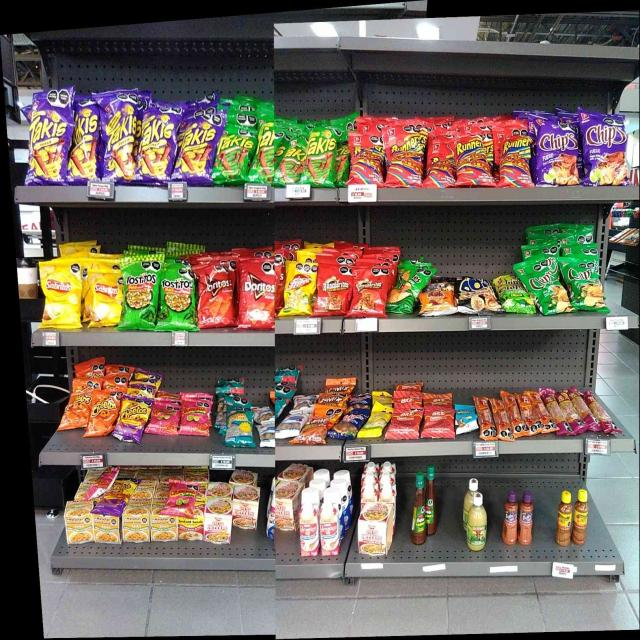bitzAlmendras: (456, 404, 475, 432)
bitzEnchilado90: (478, 390, 542, 438), (425, 406, 454, 440), (394, 406, 420, 439)
bitzHabanero: (555, 390, 613, 434)
bokadosCacahuates: (341, 410, 362, 438)
botaneraChilito: (574, 490, 588, 546), (558, 492, 570, 546)
cheetosFlaminHot: (121, 395, 146, 443), (109, 479, 127, 512)
cheetosOriginal: (92, 392, 115, 432), (67, 392, 89, 429)
chipsFuego: (582, 111, 626, 186), (536, 120, 578, 186)
chipsJalapeno: (567, 259, 601, 311), (534, 262, 561, 315)
chipsPapatinas: (501, 276, 524, 314)
churrumais: (182, 400, 208, 435), (154, 398, 178, 434), (169, 479, 193, 513)
delPrimoSalsa: (468, 494, 485, 551)
doritosNacho: (240, 260, 276, 330), (199, 265, 235, 327)
fritosLimon: (286, 262, 313, 316)
hotNutsOriginal: (426, 277, 454, 316)
leoCacahuates: (277, 413, 300, 437), (257, 423, 275, 447)
leoMix: (306, 405, 334, 445)
maruchanPollo: (67, 501, 92, 543), (129, 496, 150, 542), (94, 516, 119, 545), (151, 516, 176, 542)
maruchanRes: (179, 518, 203, 542)
nestleCarnation: (300, 506, 318, 556), (321, 506, 338, 555)
nissinCamaron: (206, 498, 231, 543)
nissinRes: (359, 504, 387, 556), (235, 484, 257, 530), (277, 482, 297, 529)
popKarameladas: (457, 276, 492, 314)
rancheritos: (318, 264, 350, 317), (354, 266, 385, 318)
rufflesQueso: (389, 280, 414, 316)
runners: (385, 128, 423, 188), (348, 132, 383, 184), (456, 138, 492, 187), (501, 136, 532, 188), (430, 162, 454, 189)
sabritasOriginal: (41, 262, 81, 330), (90, 270, 118, 327)
salsaBufalo: (414, 474, 425, 543), (428, 465, 435, 536)
semillasCalabaza: (366, 405, 390, 438)
semillasGirasol: (227, 407, 252, 447)
tajinDulce: (504, 494, 516, 544), (520, 495, 532, 545)
takisFuego: (30, 92, 68, 182), (101, 91, 138, 182), (137, 107, 178, 185), (178, 115, 214, 182), (72, 99, 98, 182)
takisOriginal: (218, 120, 250, 183), (251, 120, 280, 184), (308, 131, 336, 186), (282, 134, 304, 185)
tostitos: (124, 258, 158, 330), (162, 270, 190, 331)
